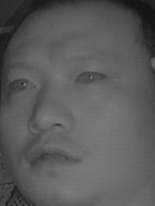eye: (73, 68, 108, 87), (8, 75, 39, 93)
mouth: (22, 138, 85, 176)
